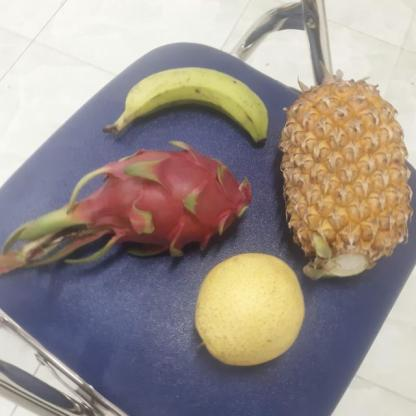banana: (118, 66, 273, 145)
pear: (192, 251, 308, 365)
pineapple: (278, 86, 414, 277)
pitaya: (78, 145, 270, 259)
